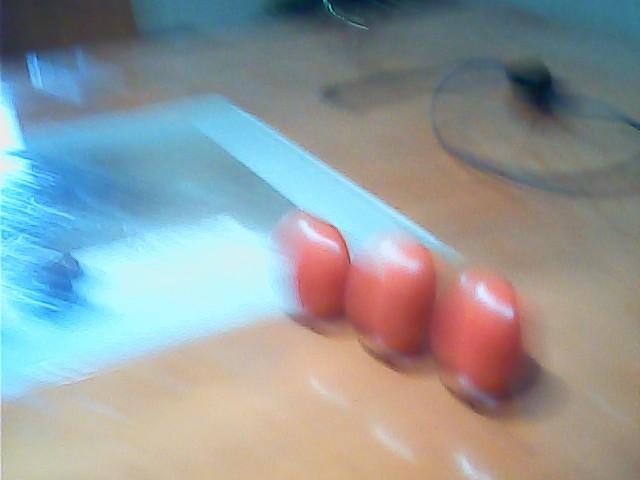maduro: (429, 268, 522, 399), (349, 239, 441, 357), (283, 218, 352, 325)
